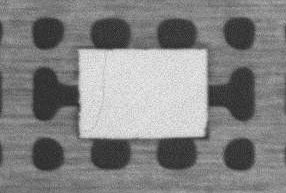DIE_CRACK: (86, 53, 110, 133)
